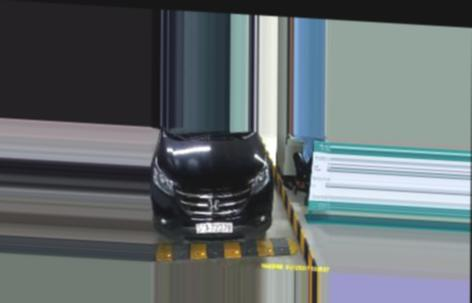License_Plate: (192, 218, 235, 236)
